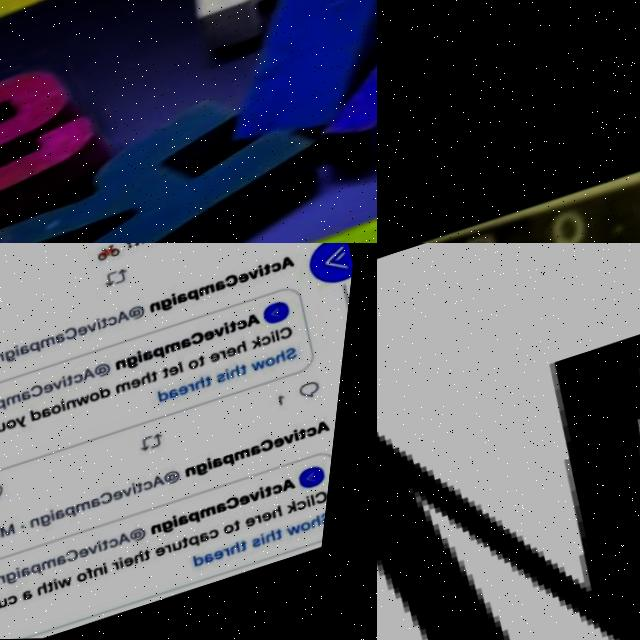5: (460, 225, 524, 243)
9: (545, 200, 612, 243)
A: (251, 314, 268, 329), (122, 311, 138, 326), (89, 368, 105, 383), (292, 479, 308, 494), (325, 423, 342, 437), (286, 257, 302, 271), (162, 476, 178, 490), (129, 533, 145, 547), (188, 338, 202, 351), (33, 566, 47, 579), (177, 389, 190, 402), (211, 532, 224, 545), (182, 294, 196, 306), (149, 351, 163, 363), (259, 446, 273, 458), (221, 459, 235, 471), (189, 517, 203, 529), (68, 555, 82, 567), (220, 281, 233, 293), (62, 333, 75, 345), (26, 345, 39, 357), (29, 391, 42, 403), (101, 498, 114, 510), (65, 510, 78, 522), (226, 503, 239, 515), (35, 590, 48, 602), (50, 408, 62, 419), (2, 531, 14, 542), (216, 554, 228, 565), (0, 402, 6, 414)
C: (286, 328, 303, 343), (38, 384, 54, 399), (78, 549, 94, 564), (269, 440, 286, 454), (231, 275, 247, 289), (110, 492, 126, 506), (72, 327, 87, 341), (198, 332, 213, 346), (238, 497, 253, 511), (325, 493, 340, 507), (243, 321, 257, 333), (282, 485, 296, 497), (276, 263, 289, 275), (316, 427, 329, 439), (307, 501, 320, 513), (220, 529, 233, 541), (20, 595, 33, 607), (121, 538, 133, 550), (114, 316, 126, 327), (82, 374, 94, 385), (268, 337, 280, 348), (154, 481, 166, 492)
D: (38, 409, 53, 424), (205, 554, 219, 569), (107, 386, 121, 400), (166, 390, 180, 404)
E: (249, 495, 264, 508), (83, 326, 97, 339), (176, 366, 189, 379), (123, 490, 136, 503), (138, 379, 152, 391), (256, 517, 270, 529), (166, 547, 180, 559), (135, 557, 149, 569), (244, 273, 257, 285), (211, 331, 224, 343), (234, 348, 247, 360), (186, 386, 199, 398), (284, 438, 297, 450), (273, 512, 286, 524), (226, 551, 239, 563), (217, 353, 229, 365), (51, 384, 63, 395), (91, 548, 102, 559)
F: (98, 568, 108, 580)
G: (132, 356, 149, 372), (206, 463, 221, 478), (174, 520, 189, 535), (167, 298, 182, 312), (19, 571, 33, 586), (52, 514, 66, 528), (12, 350, 25, 363)
H: (162, 0, 377, 43), (145, 552, 159, 565), (241, 543, 254, 557), (243, 343, 256, 356), (282, 352, 295, 365), (238, 367, 251, 380), (203, 378, 216, 391), (283, 507, 296, 520), (50, 583, 63, 596), (321, 517, 334, 530), (277, 532, 290, 545), (149, 374, 161, 387)
I: (263, 265, 273, 279), (230, 323, 240, 336), (108, 541, 118, 554), (216, 459, 225, 473), (177, 294, 186, 307), (102, 318, 111, 331), (21, 345, 30, 358), (144, 351, 153, 364), (269, 488, 278, 501), (183, 516, 192, 529), (317, 497, 326, 510), (302, 431, 311, 443), (141, 484, 150, 496), (70, 376, 78, 388), (278, 332, 286, 344), (232, 370, 240, 382), (61, 511, 69, 523), (28, 568, 36, 580), (131, 558, 139, 570), (115, 563, 123, 575), (65, 580, 73, 592), (272, 535, 280, 547)
K: (297, 502, 310, 516), (258, 338, 271, 351)
L: (281, 330, 289, 342), (186, 362, 194, 374), (69, 400, 77, 412), (321, 496, 329, 508)
M: (377, 286, 640, 640), (46, 336, 66, 351), (211, 506, 231, 521), (204, 284, 224, 298), (11, 524, 29, 539), (171, 342, 190, 356), (123, 382, 142, 396), (243, 450, 262, 464), (14, 394, 32, 407), (86, 502, 104, 515), (55, 559, 71, 571)
N: (162, 524, 175, 537), (194, 467, 208, 479), (156, 302, 169, 314), (123, 360, 136, 372), (106, 567, 119, 579), (9, 575, 21, 586), (42, 518, 54, 529), (3, 353, 14, 364), (75, 401, 86, 412)
O: (196, 360, 209, 372), (98, 392, 111, 404), (60, 404, 73, 416), (235, 525, 248, 537), (89, 572, 102, 584), (272, 358, 285, 369), (312, 522, 325, 533), (15, 420, 27, 431)
P: (199, 512, 214, 527), (193, 289, 207, 304), (159, 348, 174, 362), (233, 455, 247, 469), (75, 507, 89, 520), (36, 342, 49, 355), (43, 564, 56, 577), (4, 400, 17, 412), (201, 537, 213, 550)
R: (266, 516, 275, 526), (177, 545, 186, 555), (235, 549, 244, 559), (227, 352, 236, 361), (196, 384, 205, 393), (125, 562, 134, 571), (0, 426, 6, 436)
S: (0, 49, 122, 243), (292, 348, 307, 363), (225, 374, 237, 385), (264, 539, 276, 550), (1, 602, 12, 613), (332, 513, 338, 527)
T: (235, 323, 246, 334), (107, 318, 117, 330), (308, 429, 318, 441), (275, 487, 285, 499), (156, 550, 166, 562), (269, 265, 279, 276), (146, 483, 156, 494), (114, 541, 124, 552), (245, 521, 255, 532), (193, 538, 203, 549), (60, 582, 70, 593), (286, 531, 296, 542), (252, 542, 262, 553), (247, 366, 257, 377), (170, 369, 180, 380), (159, 372, 169, 383), (74, 376, 84, 387), (214, 378, 223, 388), (207, 357, 216, 367), (0, 602, 5, 614), (138, 243, 147, 246)
U: (5, 423, 17, 435), (11, 599, 23, 610), (184, 542, 196, 552)
V: (254, 270, 268, 282), (221, 328, 234, 340), (293, 435, 306, 447), (133, 487, 146, 499), (260, 492, 273, 504), (94, 323, 106, 335), (61, 381, 73, 392), (100, 545, 111, 556)
W: (259, 361, 275, 374), (71, 577, 87, 590), (299, 525, 315, 538), (85, 396, 100, 408)
Y: (23, 416, 38, 430), (0, 533, 5, 548)
